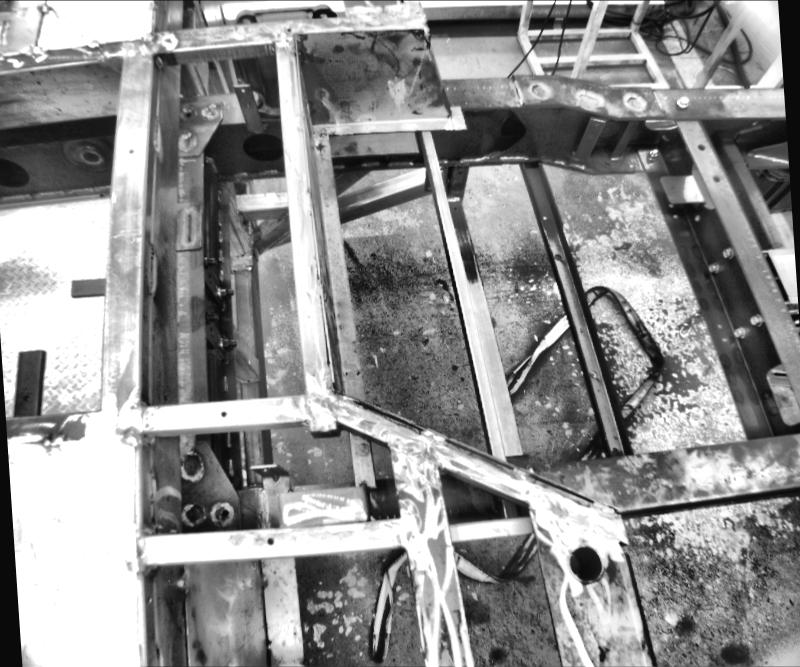bolt: (215, 285, 235, 298), (674, 92, 690, 108), (217, 335, 237, 347), (201, 253, 217, 268), (746, 310, 762, 325), (643, 146, 659, 159), (706, 261, 722, 273), (722, 247, 734, 259), (732, 326, 744, 335)
bracket: (247, 457, 302, 528), (653, 165, 705, 217), (760, 361, 799, 426), (10, 349, 46, 417), (230, 79, 268, 133), (64, 272, 106, 298)
hole: (564, 543, 604, 580), (0, 154, 28, 189), (78, 145, 102, 162), (216, 406, 228, 418), (18, 390, 32, 400), (263, 534, 275, 544), (589, 368, 597, 378), (610, 443, 618, 452), (220, 507, 228, 515), (553, 252, 561, 260), (720, 334, 728, 342), (696, 142, 704, 149), (539, 212, 547, 219), (712, 175, 720, 181), (714, 322, 720, 327), (128, 148, 132, 152), (240, 87, 244, 91), (453, 205, 456, 209)
